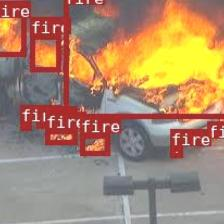fire: (62, 0, 224, 117), (0, 0, 24, 55), (30, 34, 60, 71), (80, 133, 109, 155), (44, 129, 76, 144), (206, 120, 224, 137), (170, 146, 182, 156), (20, 121, 30, 130), (36, 122, 48, 128)
